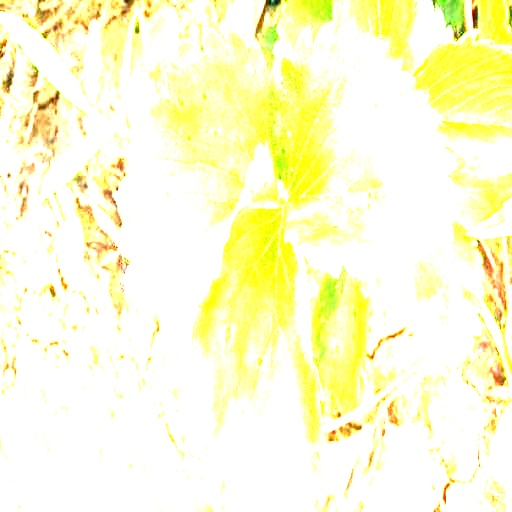Leaf Spot: (273, 17, 459, 280), (114, 26, 280, 318), (189, 203, 329, 511), (415, 221, 484, 370), (311, 264, 367, 411)
